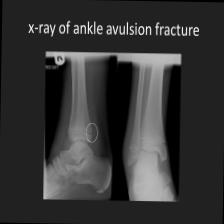avulsion-fracture: (45, 54, 182, 202)
